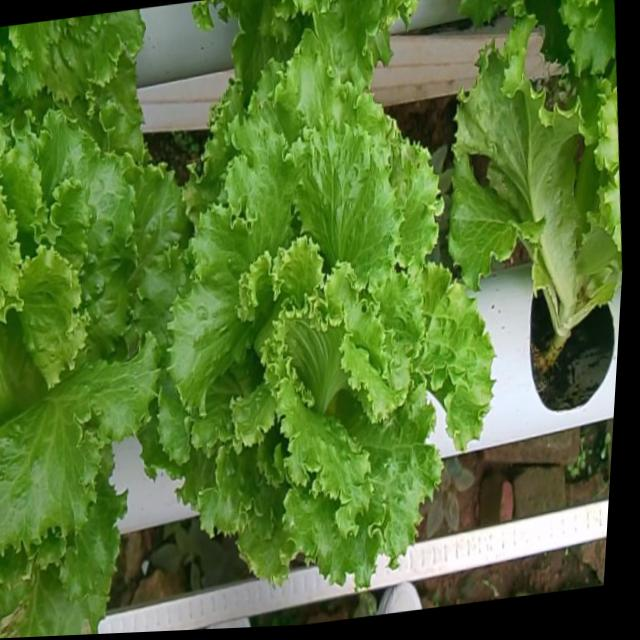Mature: (149, 67, 484, 598), (0, 121, 178, 565)
